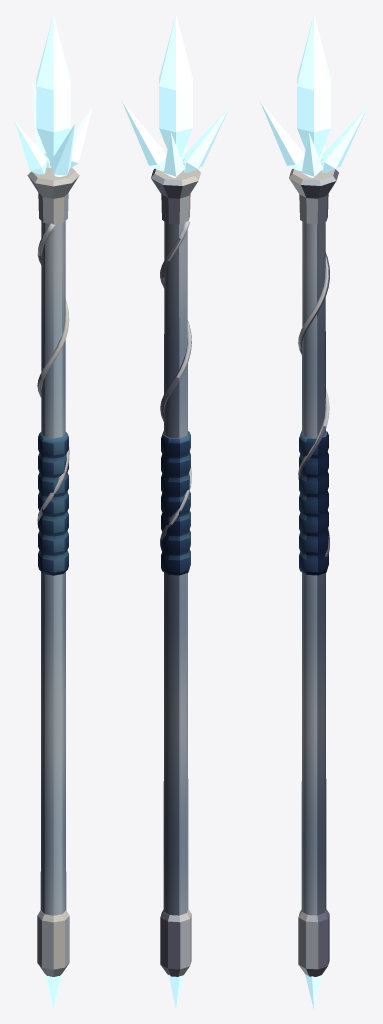
Rendered from st_frost_scepter.glb.
3 views of the same model, side by side, from view 1: azimuth 90°, elevation 25°; view 2: azimuth 150°, elevation 25°; view 3: azimuth 330°, elevation 25° (orthographic).
Visible parts, largest first — view 1: Weapon; view 2: Weapon; view 3: Weapon.
Boxes of the visible parts, bbox=[...] form: Weapon: bbox=[14, 14, 92, 1009]; Weapon: bbox=[121, 15, 230, 1008]; Weapon: bbox=[259, 15, 368, 1008].
Bounding box in the file's own units: 0.1763 × 1.9 × 0.1354.
